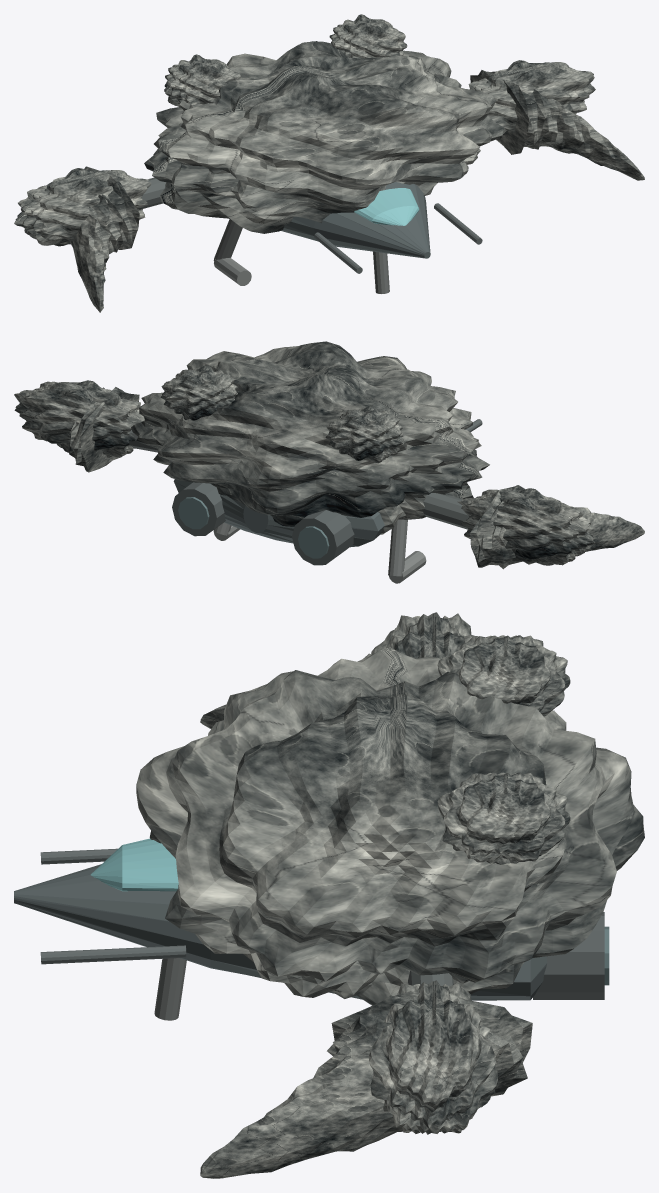
Rendered from feist_gray_parked.glb.
3 renders of one model, top to bottom at view 1: azimuth 30°, elevation 25°; view 2: azimuth 150°, elevation 25°; view 3: azimuth 270°, elevation 25°, orthographic. The views are drawn at different scales.
Parts seen in each view (by area): view 1: rock_main_1, claw_13, wing_root_5, hull_2, claw_6, wing_root_12, upper_shield_7, upper_shield_14, cockpit_3, foot_19, landing_18, landing_22 (+3 smaller); view 2: rock_main_1, wing_root_5, wing_root_12, claw_6, upper_shield_7, upper_shield_14, hull_2, engine_9, claw_13, engine_16, hinge_4, landing_18 (+3 smaller); view 3: rock_main_1, claw_13, wing_root_12, hull_2, upper_shield_14, upper_shield_7, engine_16, cockpit_3, wing_root_5, gun_15, landing_22, gun_8.
Part boxes in pixels (left/top/right/bottom): rock_main_1: left=144, top=41, right=506, bottom=233; claw_13: left=470, top=70, right=644, bottom=180; wing_root_5: left=14, top=168, right=151, bottom=246; hull_2: left=281, top=182, right=430, bottom=258; claw_6: left=70, top=166, right=139, bottom=312; wing_root_12: left=468, top=60, right=595, bottom=138; upper_shield_7: left=164, top=54, right=240, bottom=107; upper_shield_14: left=329, top=14, right=407, bottom=58; cockpit_3: left=354, top=188, right=419, bottom=225; foot_19: left=214, top=257, right=251, bottom=285; landing_18: left=213, top=219, right=242, bottom=260; landing_22: left=373, top=251, right=389, bottom=293; rock_main_1: left=131, top=341, right=489, bottom=534; wing_root_5: left=457, top=488, right=595, bottom=565; wing_root_12: left=14, top=380, right=144, bottom=457; claw_6: left=470, top=485, right=644, bottom=569; upper_shield_7: left=325, top=405, right=403, bottom=463; upper_shield_14: left=160, top=365, right=237, bottom=420; hull_2: left=173, top=479, right=384, bottom=547; engine_9: left=292, top=510, right=354, bottom=565; claw_13: left=68, top=387, right=139, bottom=472; engine_16: left=172, top=482, right=225, bottom=536; hinge_4: left=423, top=493, right=468, bottom=529; landing_18: left=388, top=519, right=407, bottom=576; rock_main_1: left=136, top=647, right=644, bottom=1005; claw_13: left=200, top=989, right=532, bottom=1178; wing_root_12: left=368, top=980, right=497, bottom=1134; hull_2: left=14, top=864, right=547, bottom=1000; upper_shield_14: left=437, top=772, right=570, bottom=864; upper_shield_7: left=437, top=635, right=570, bottom=716; engine_16: left=533, top=912, right=604, bottom=999; cockpit_3: left=90, top=838, right=178, bottom=891; wing_root_5: left=371, top=612, right=474, bottom=659; gun_15: left=40, top=945, right=186, bottom=964; landing_22: left=154, top=958, right=186, bottom=1020; gun_8: left=40, top=848, right=117, bottom=864.
Size of the model in its own units: 4.66 by 1.45 by 2.56.
Materials: 1 (1 with a texture image).
